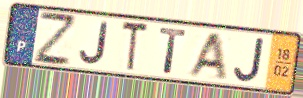A: (184, 31, 228, 80)
J: (232, 35, 267, 84), (78, 21, 111, 67)
T: (120, 19, 151, 74), (157, 26, 190, 76)
Z: (32, 9, 77, 68)
